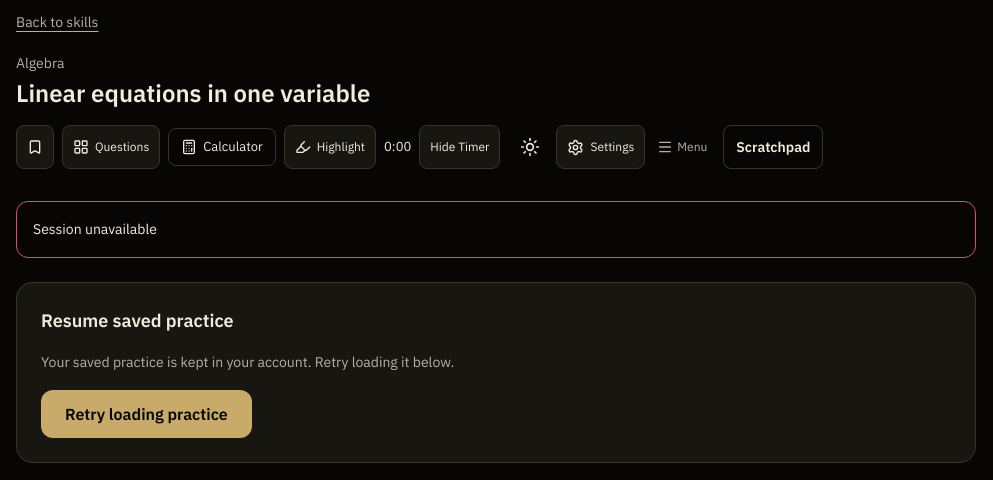
canonical student practice › retries an unavailable URL session without allocating a replacement
Click the button "Retry loading practice".
click(146, 414)  # box [41,390,252,438]
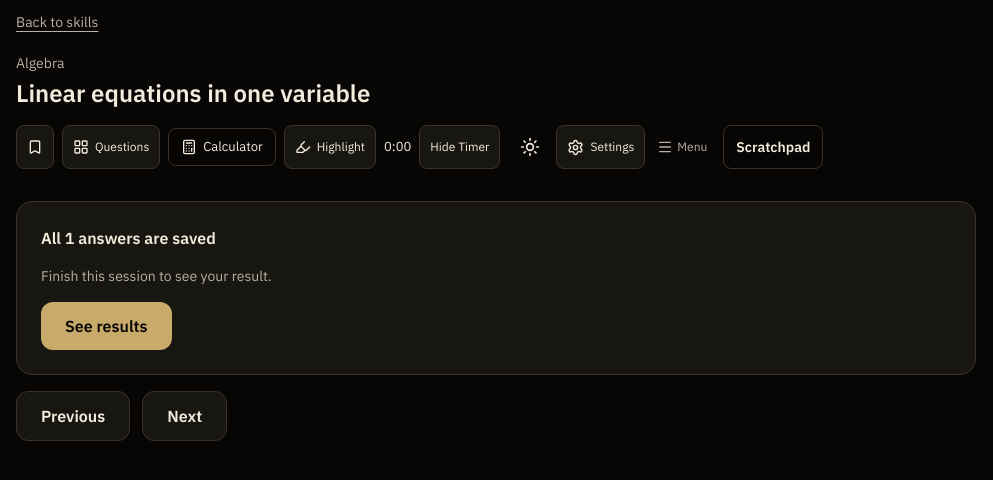
Now the heading "All 1 answers are saved" is shown, box [41,228,216,248]
